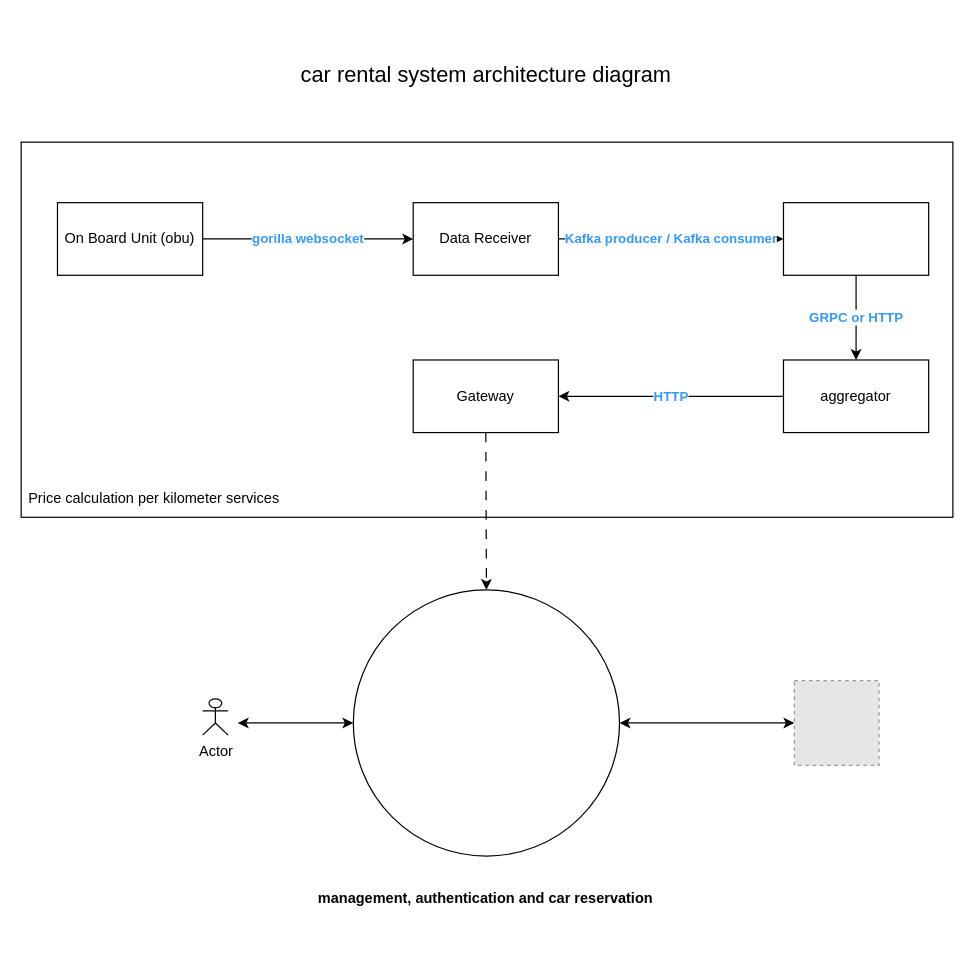
The diagram is 974 pixels wide and 961 high, and some of its shapes have lost their labels. Grey dashed boxes stand in for pictures. Here are the shapes that lost their labels. From the top down, the box of each, then its label:
(782, 201, 929, 275): distance calculator
(352, 589, 620, 856): REST-API
